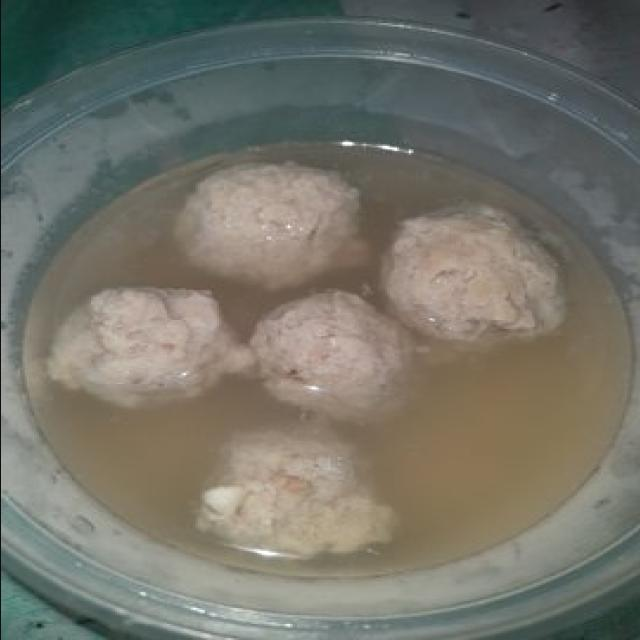bakso: (21, 140, 628, 576)
